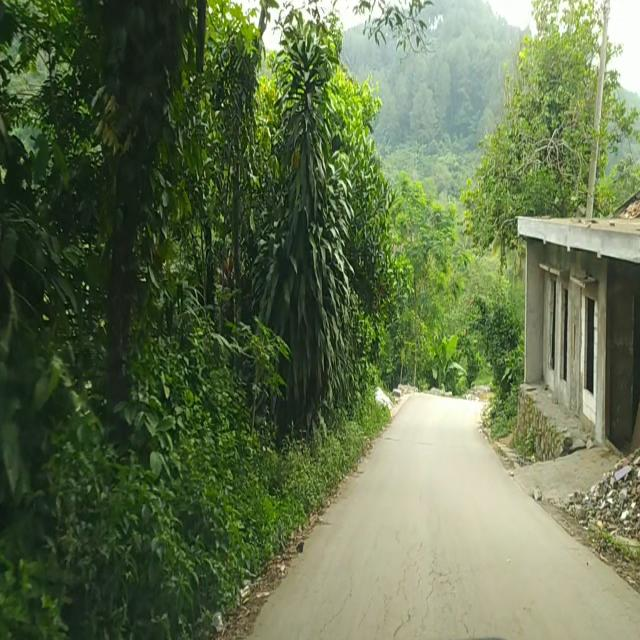Drain Hole: (321, 530, 461, 634)
